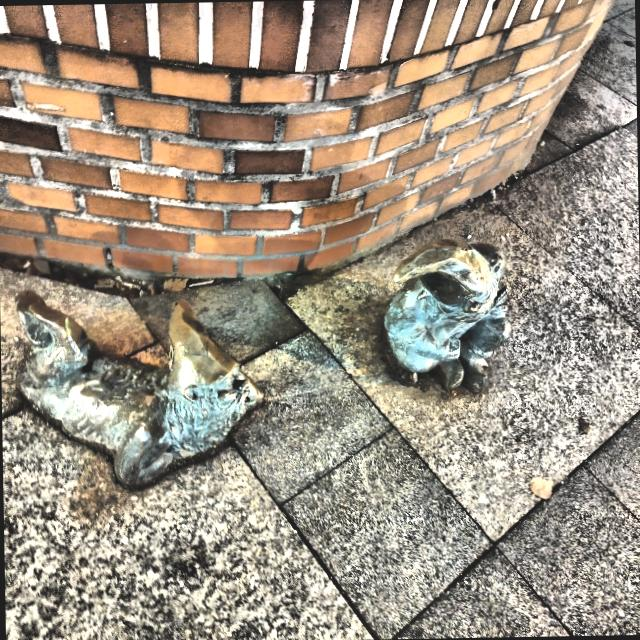Grajek_i_Meloman: (17, 238, 510, 488)
